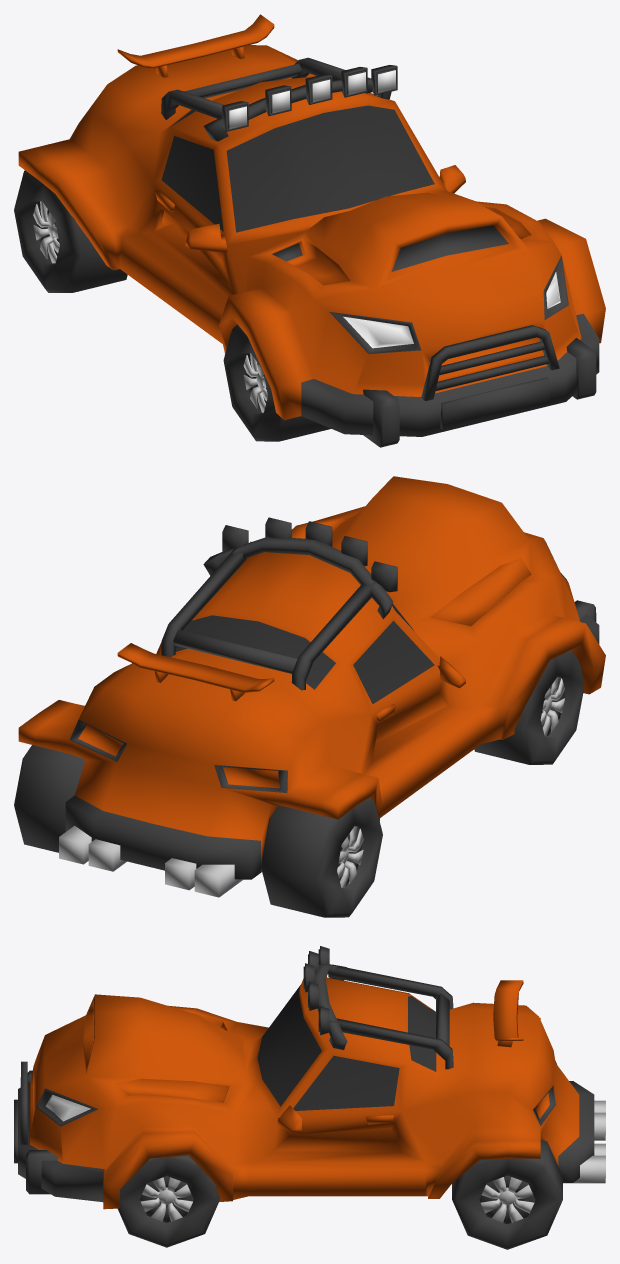
Rendered from bolt.glb.
3 renders of one model, top to bottom at view 1: azimuth 30°, elevation 25°; view 2: azimuth 150°, elevation 25°; view 3: azimuth 270°, elevation 25°, orthographic. The views are drawn at different scales.
Visible parts, largest first — view 1: Cube, Cube_1; view 2: Cube, Cube_1; view 3: Cube, Cube_1.
Part boxes in pixels (x1,y1,x2,y2): Cube: [14, 14, 605, 447]; Cube_1: [33, 201, 267, 412]; Cube: [14, 476, 605, 917]; Cube_1: [59, 677, 564, 897]; Cube: [14, 946, 594, 1249]; Cube_1: [140, 1100, 605, 1222].
Bounding box in the file's own units: 3.96 × 3.01 × 7.31.
